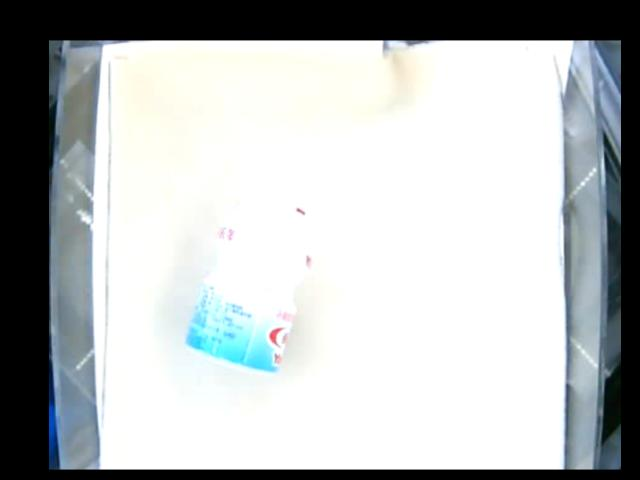Bottle: (187, 180, 312, 375)
